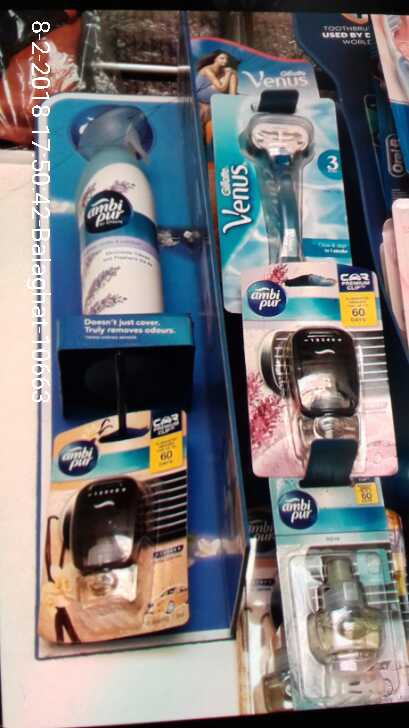beauty: (204, 92, 343, 266)
home: (237, 266, 398, 475), (51, 415, 192, 631), (274, 491, 409, 711), (71, 95, 169, 318)
